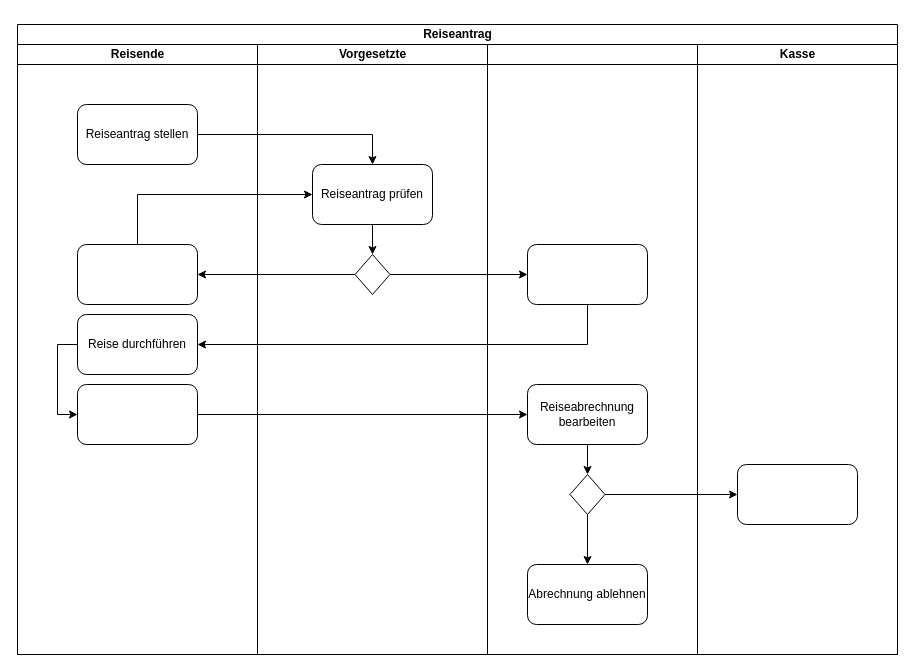
Some shapes in this 915 by 672 pixel diagram are drawn without their labels. Each missing label, with the box of its shape:
Reise abrechnen: (76, 384, 198, 444)
Reiseantrag überarbeiten: (76, 244, 198, 304)
Sachbearbeitung: (486, 44, 698, 654)
Tickets etc. bereitstellen: (526, 244, 648, 304)
Zahlung durchführen: (736, 464, 858, 524)
